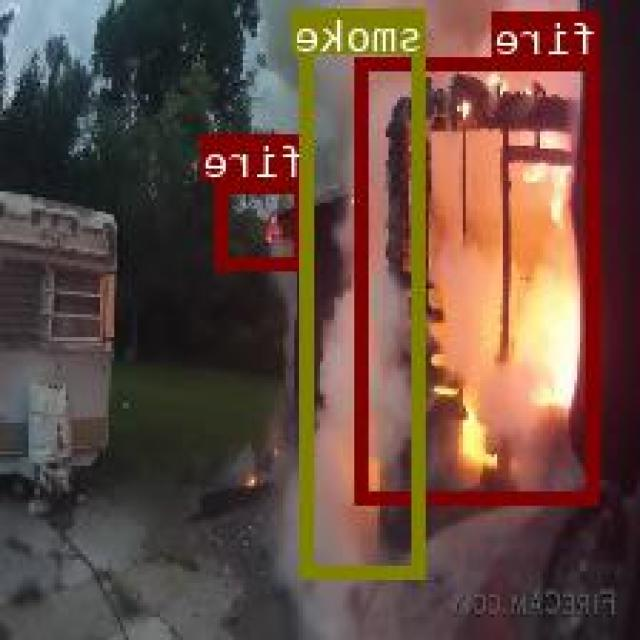fire: (358, 57, 601, 503), (218, 178, 310, 266)
smoke: (304, 7, 428, 577)
